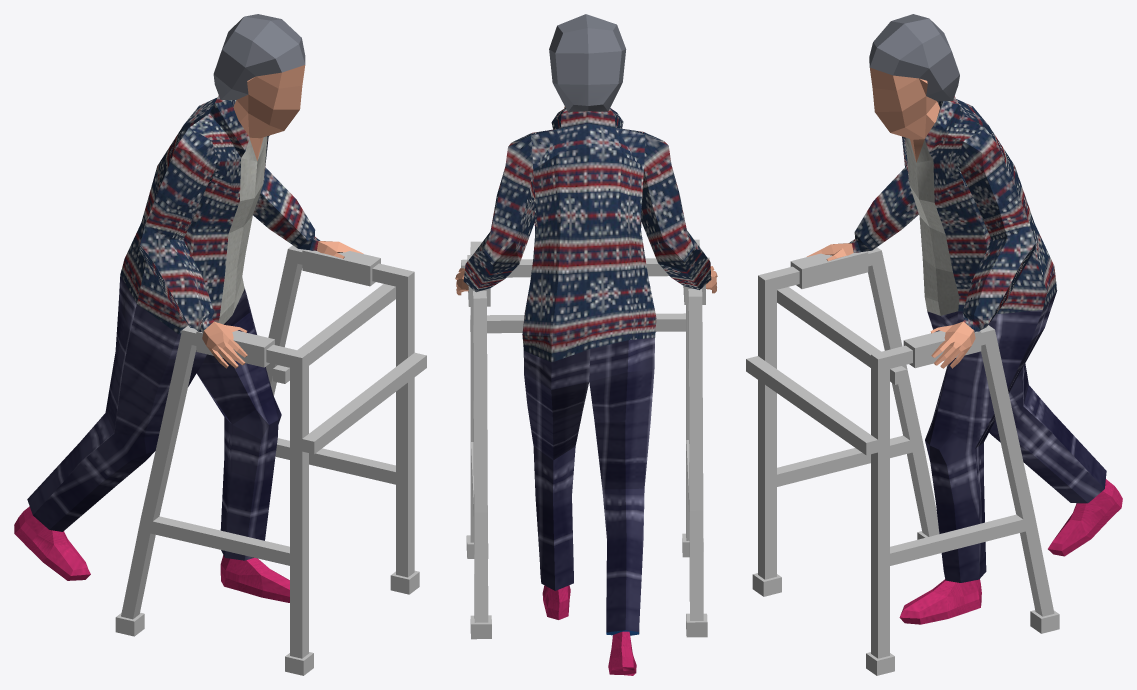
Rendered from Disabled People3.fbx.
3 views of the same model, side by side, from view 1: azimuth 30°, elevation 25°; view 2: azimuth 150°, elevation 25°; view 3: azimuth 270°, elevation 25° (orthographic).
Visible parts, largest first — view 1: OfficeWomanB.023; view 2: OfficeWomanB.023; view 3: OfficeWomanB.023.
Boxes of the visible parts, bbox=[...] form: OfficeWomanB.023: bbox=[14, 14, 426, 675]; OfficeWomanB.023: bbox=[455, 14, 717, 675]; OfficeWomanB.023: bbox=[746, 14, 1122, 675].
Bounding box in the file's own units: 82.28 × 160 × 93.17.
